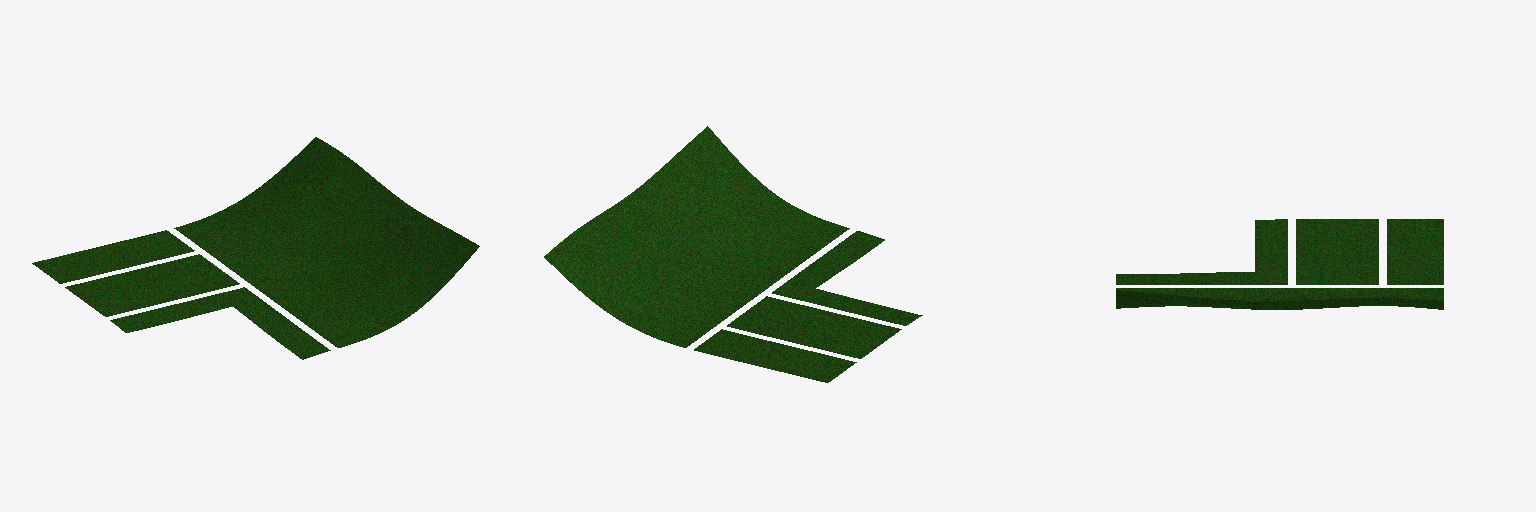
The picture shows the model from 3 angles: view 1: azimuth 30°, elevation 25°; view 2: azimuth 150°, elevation 25°; view 3: azimuth 270°, elevation 25°; orthographic projection.
Visible parts, largest first — view 1: Plane_Plane.007; view 2: Plane_Plane.007; view 3: Plane_Plane.007.
Part boxes in pixels (left/top/right/bottom): Plane_Plane.007: left=32, top=137, right=479, bottom=359; Plane_Plane.007: left=544, top=126, right=922, bottom=382; Plane_Plane.007: left=1116, top=219, right=1443, bottom=309.
Size of the model in its own units: 2000 by 474 by 2000.
1 materials, 1 textured.